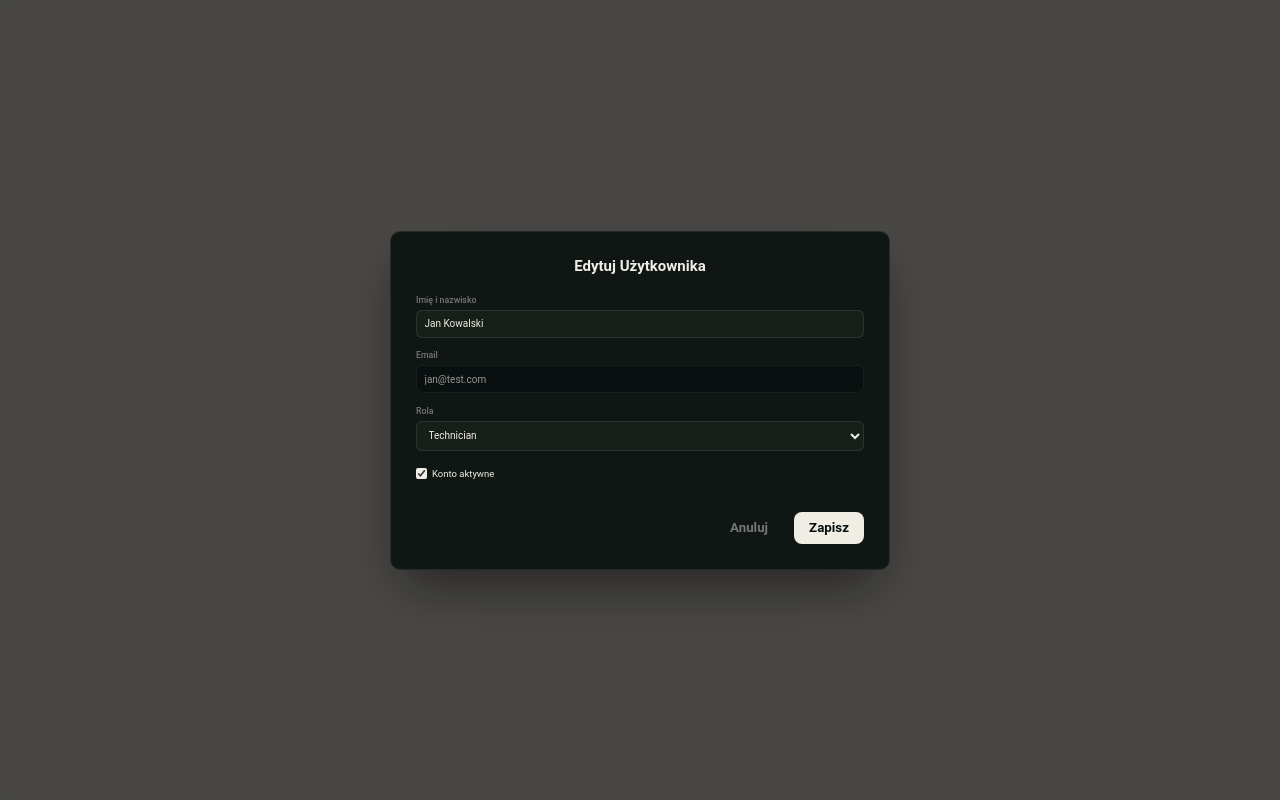
Test: UserModal › wyświetla stan ładowania "Zapisywanie..."
The image size is (1280, 800).
Click the button "Zapisz": (829, 528) [794, 512, 864, 544]
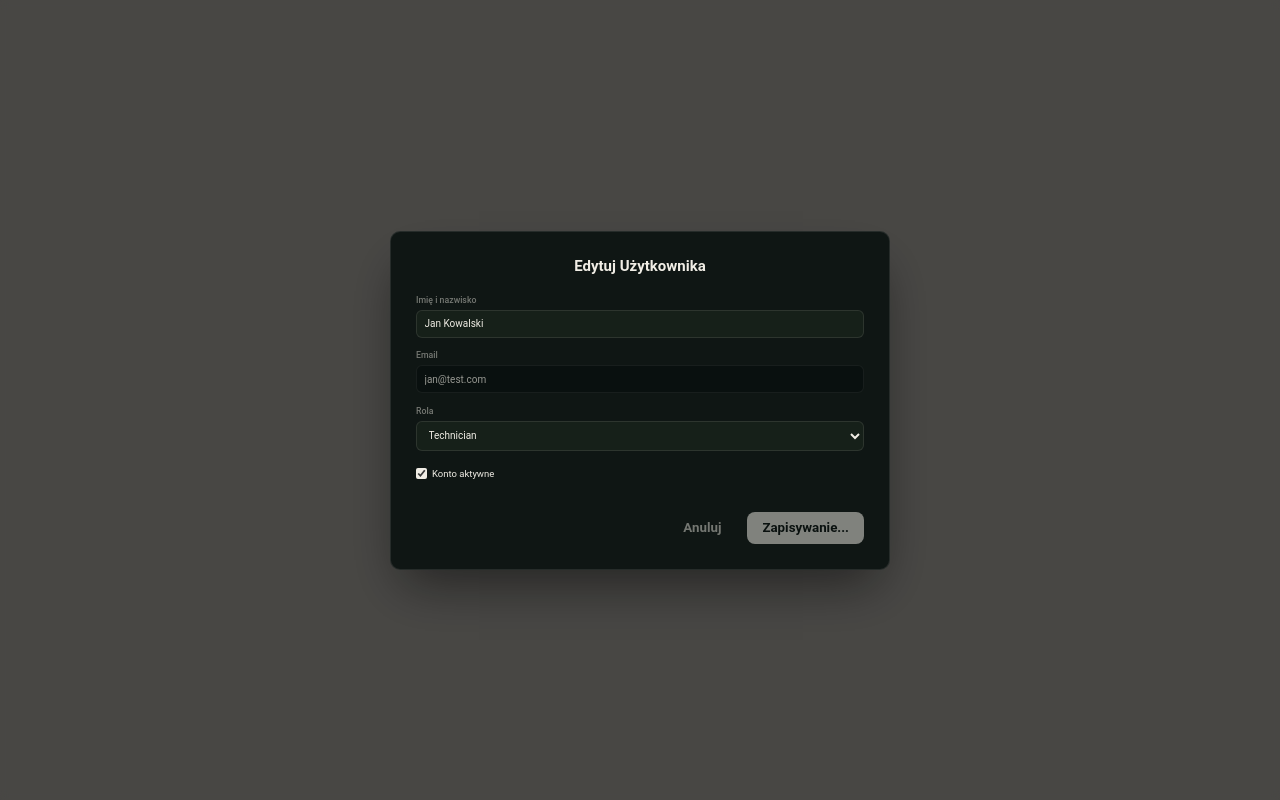
Expected: the button "Zapisywanie..." is shown, [747, 512, 864, 544]
